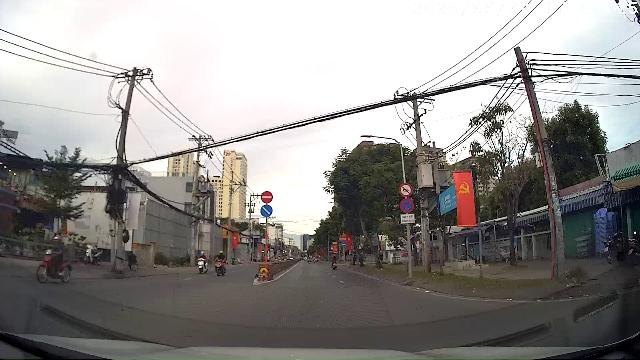102-cam-di-nguoc-chieu: (261, 190, 273, 204)
128-cam-su-dung-coi: (399, 183, 413, 197)
130-cam-dung-va-do-xe: (400, 199, 414, 213)
302a-huong-phai-di-vong-chuong-ngai-vat-1: (261, 204, 273, 218)
